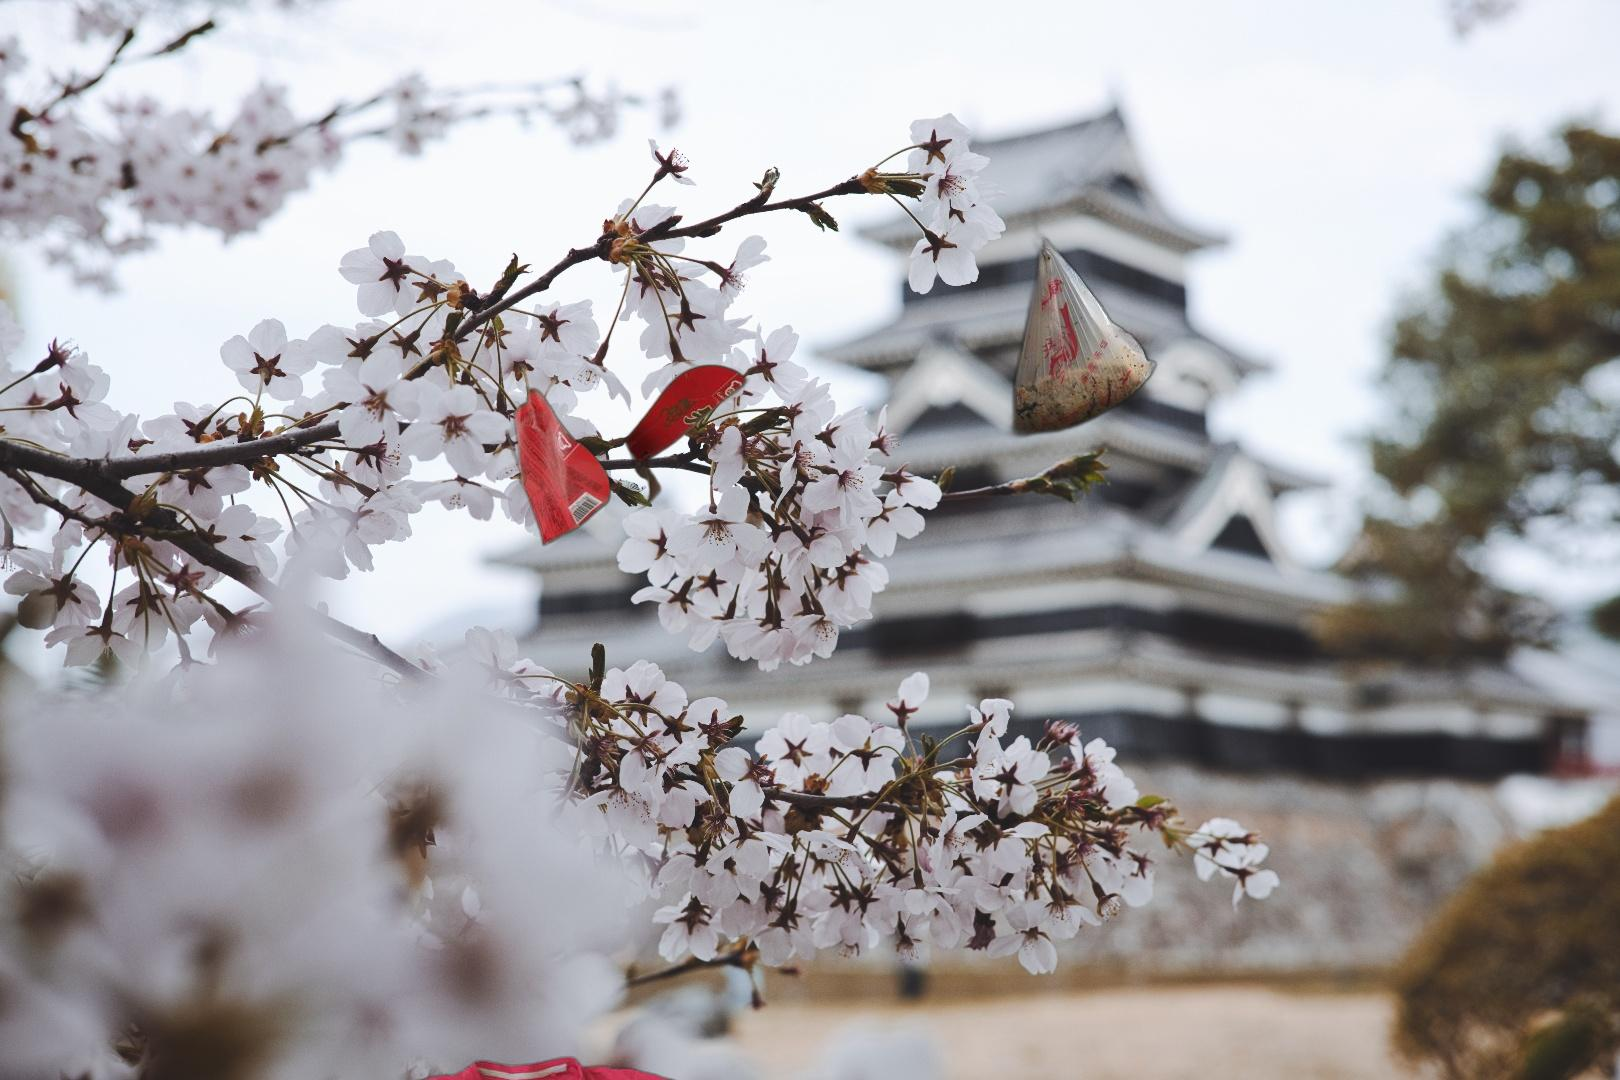biological: (1002, 200, 1164, 442)
clothes: (333, 1052, 733, 1080)
paper: (485, 360, 752, 548)
